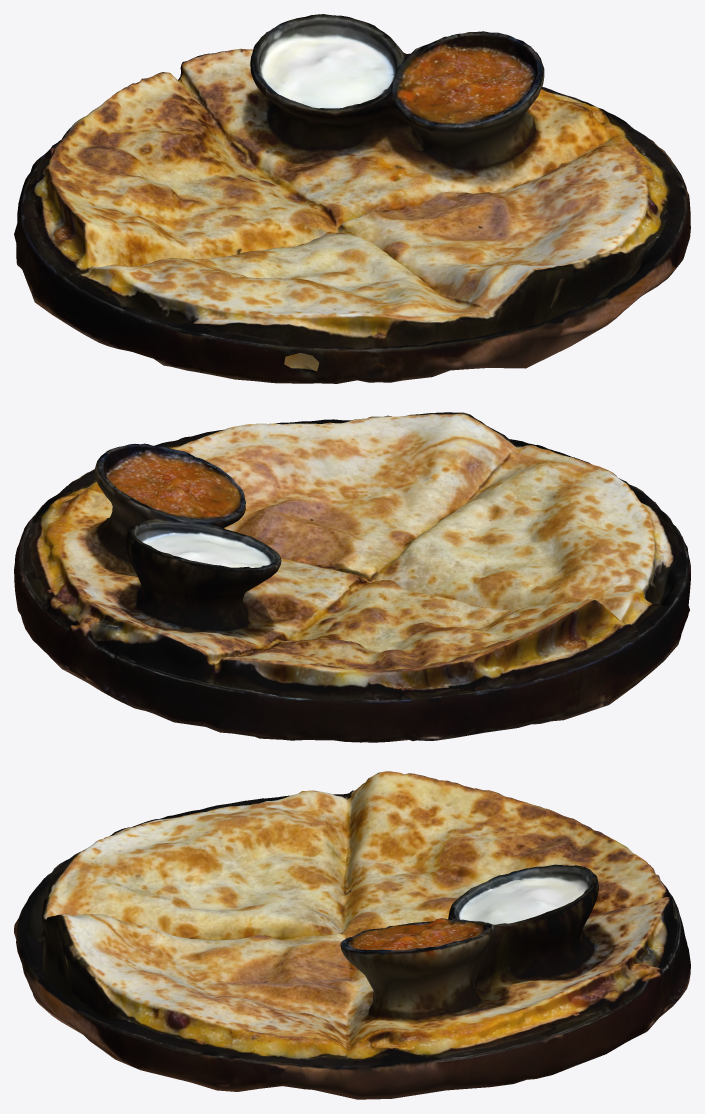
Rendered from quasedilla_1756917218077.glb.
The picture shows the model from 3 angles, top to bottom: view 1: azimuth 30°, elevation 25°; view 2: azimuth 150°, elevation 25°; view 3: azimuth 270°, elevation 25°; orthographic projection.
Visible parts, largest first — view 1: 3DModel; view 2: 3DModel; view 3: 3DModel.
Boxes of the visible parts, x1,y1,x2,y2 form: 3DModel: (14, 14, 690, 383); 3DModel: (14, 412, 690, 742); 3DModel: (14, 771, 690, 1099).
Size of the model in its own units: 39.39 by 9.1 by 39.55.
Materials: 1 (1 with a texture image).
